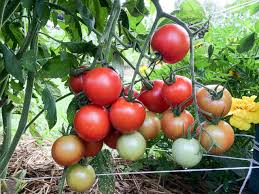stems: (167, 63, 191, 81), (173, 94, 192, 113), (198, 105, 217, 124), (195, 80, 217, 96), (138, 72, 151, 89), (145, 53, 161, 64)
tomato: (150, 24, 189, 64), (82, 68, 123, 104), (196, 119, 235, 155), (73, 104, 110, 141), (194, 83, 231, 119), (109, 96, 146, 131), (51, 134, 85, 165), (161, 76, 193, 108), (139, 80, 170, 112), (163, 109, 194, 141), (171, 138, 203, 168), (66, 164, 95, 192), (117, 133, 146, 160), (137, 112, 161, 139), (68, 66, 86, 97), (83, 140, 103, 157), (103, 132, 120, 149), (123, 88, 138, 96)
